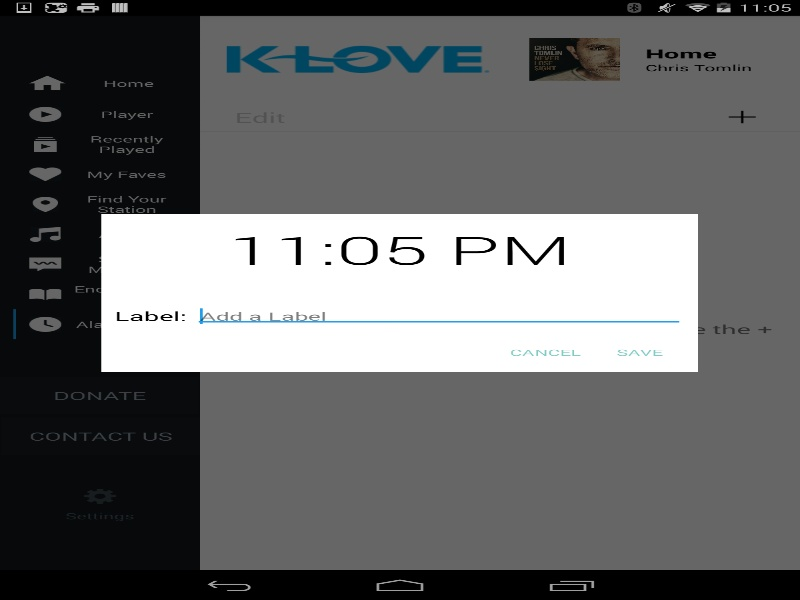Button: (494, 335, 596, 369), (596, 335, 682, 369)
Input: (193, 305, 684, 326)
